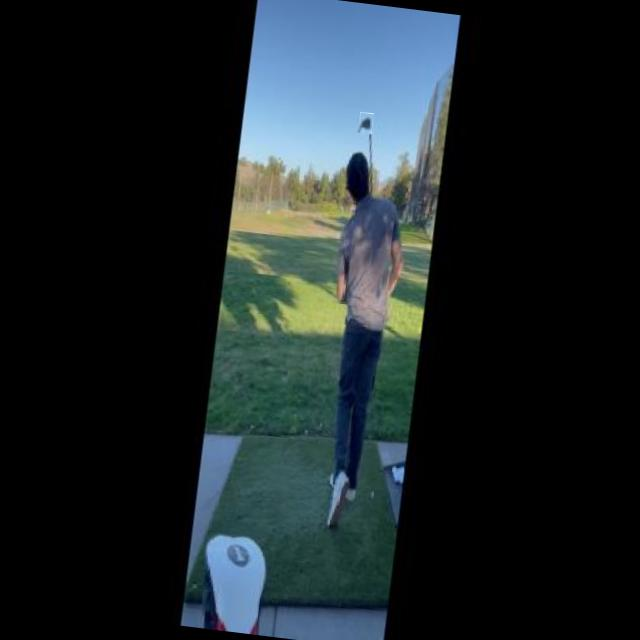club head: (358, 111, 374, 134)
